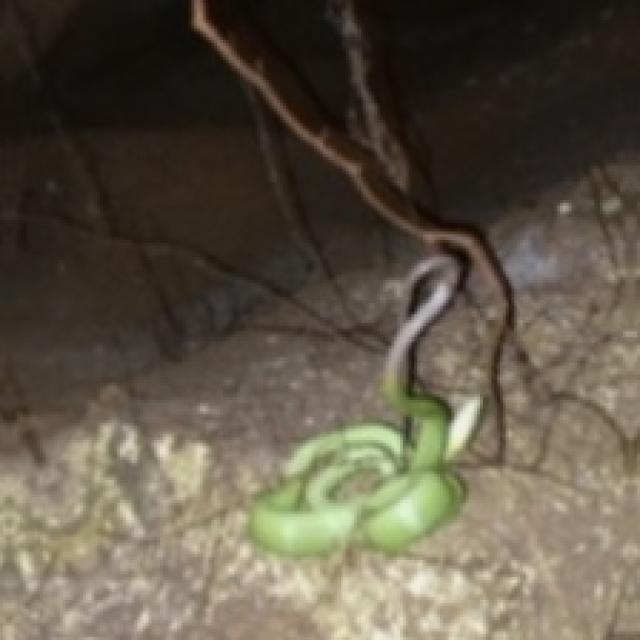red-tailed green ratsnake: (249, 254, 480, 554)
